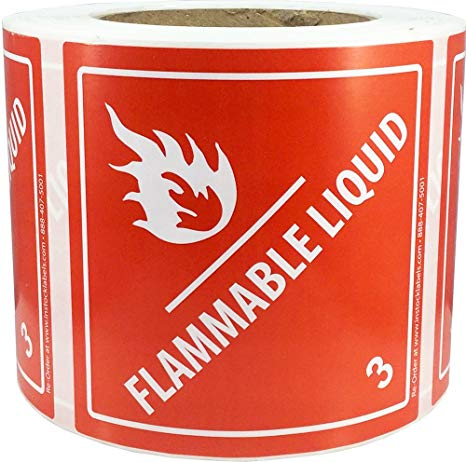FlammableLiquid: (73, 56, 418, 424)
